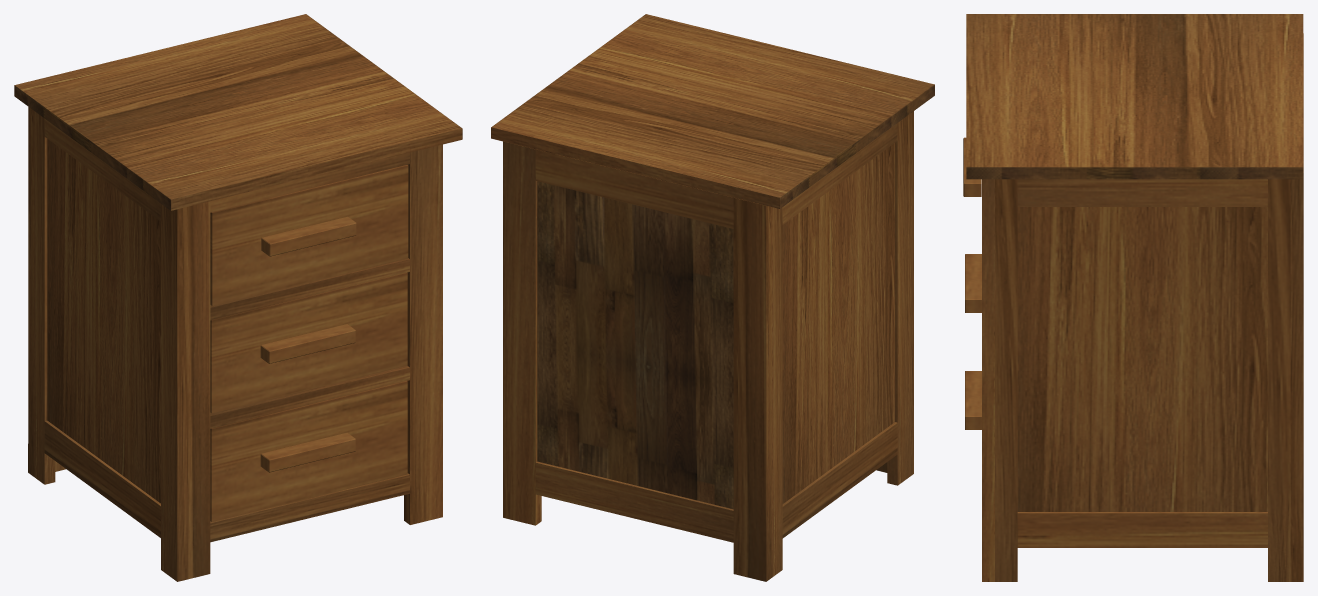
File: OPU3BS.glb
3 renders of one model, left to right at view 1: azimuth 30°, elevation 25°; view 2: azimuth 150°, elevation 25°; view 3: azimuth 270°, elevation 25°, orthographic. The views are drawn at different scales.
Parts seen in each view (by area): view 1: source.obj; view 2: source.obj; view 3: source.obj.
Part boxes in pixels (x1,y1,x2,y2): source.obj: (14,14,462,581); source.obj: (491,14,934,581); source.obj: (963,14,1303,581).
Bounding box in the file's own units: 0.4826 × 0.6183 × 0.4525.
1 material, 1 textured.
